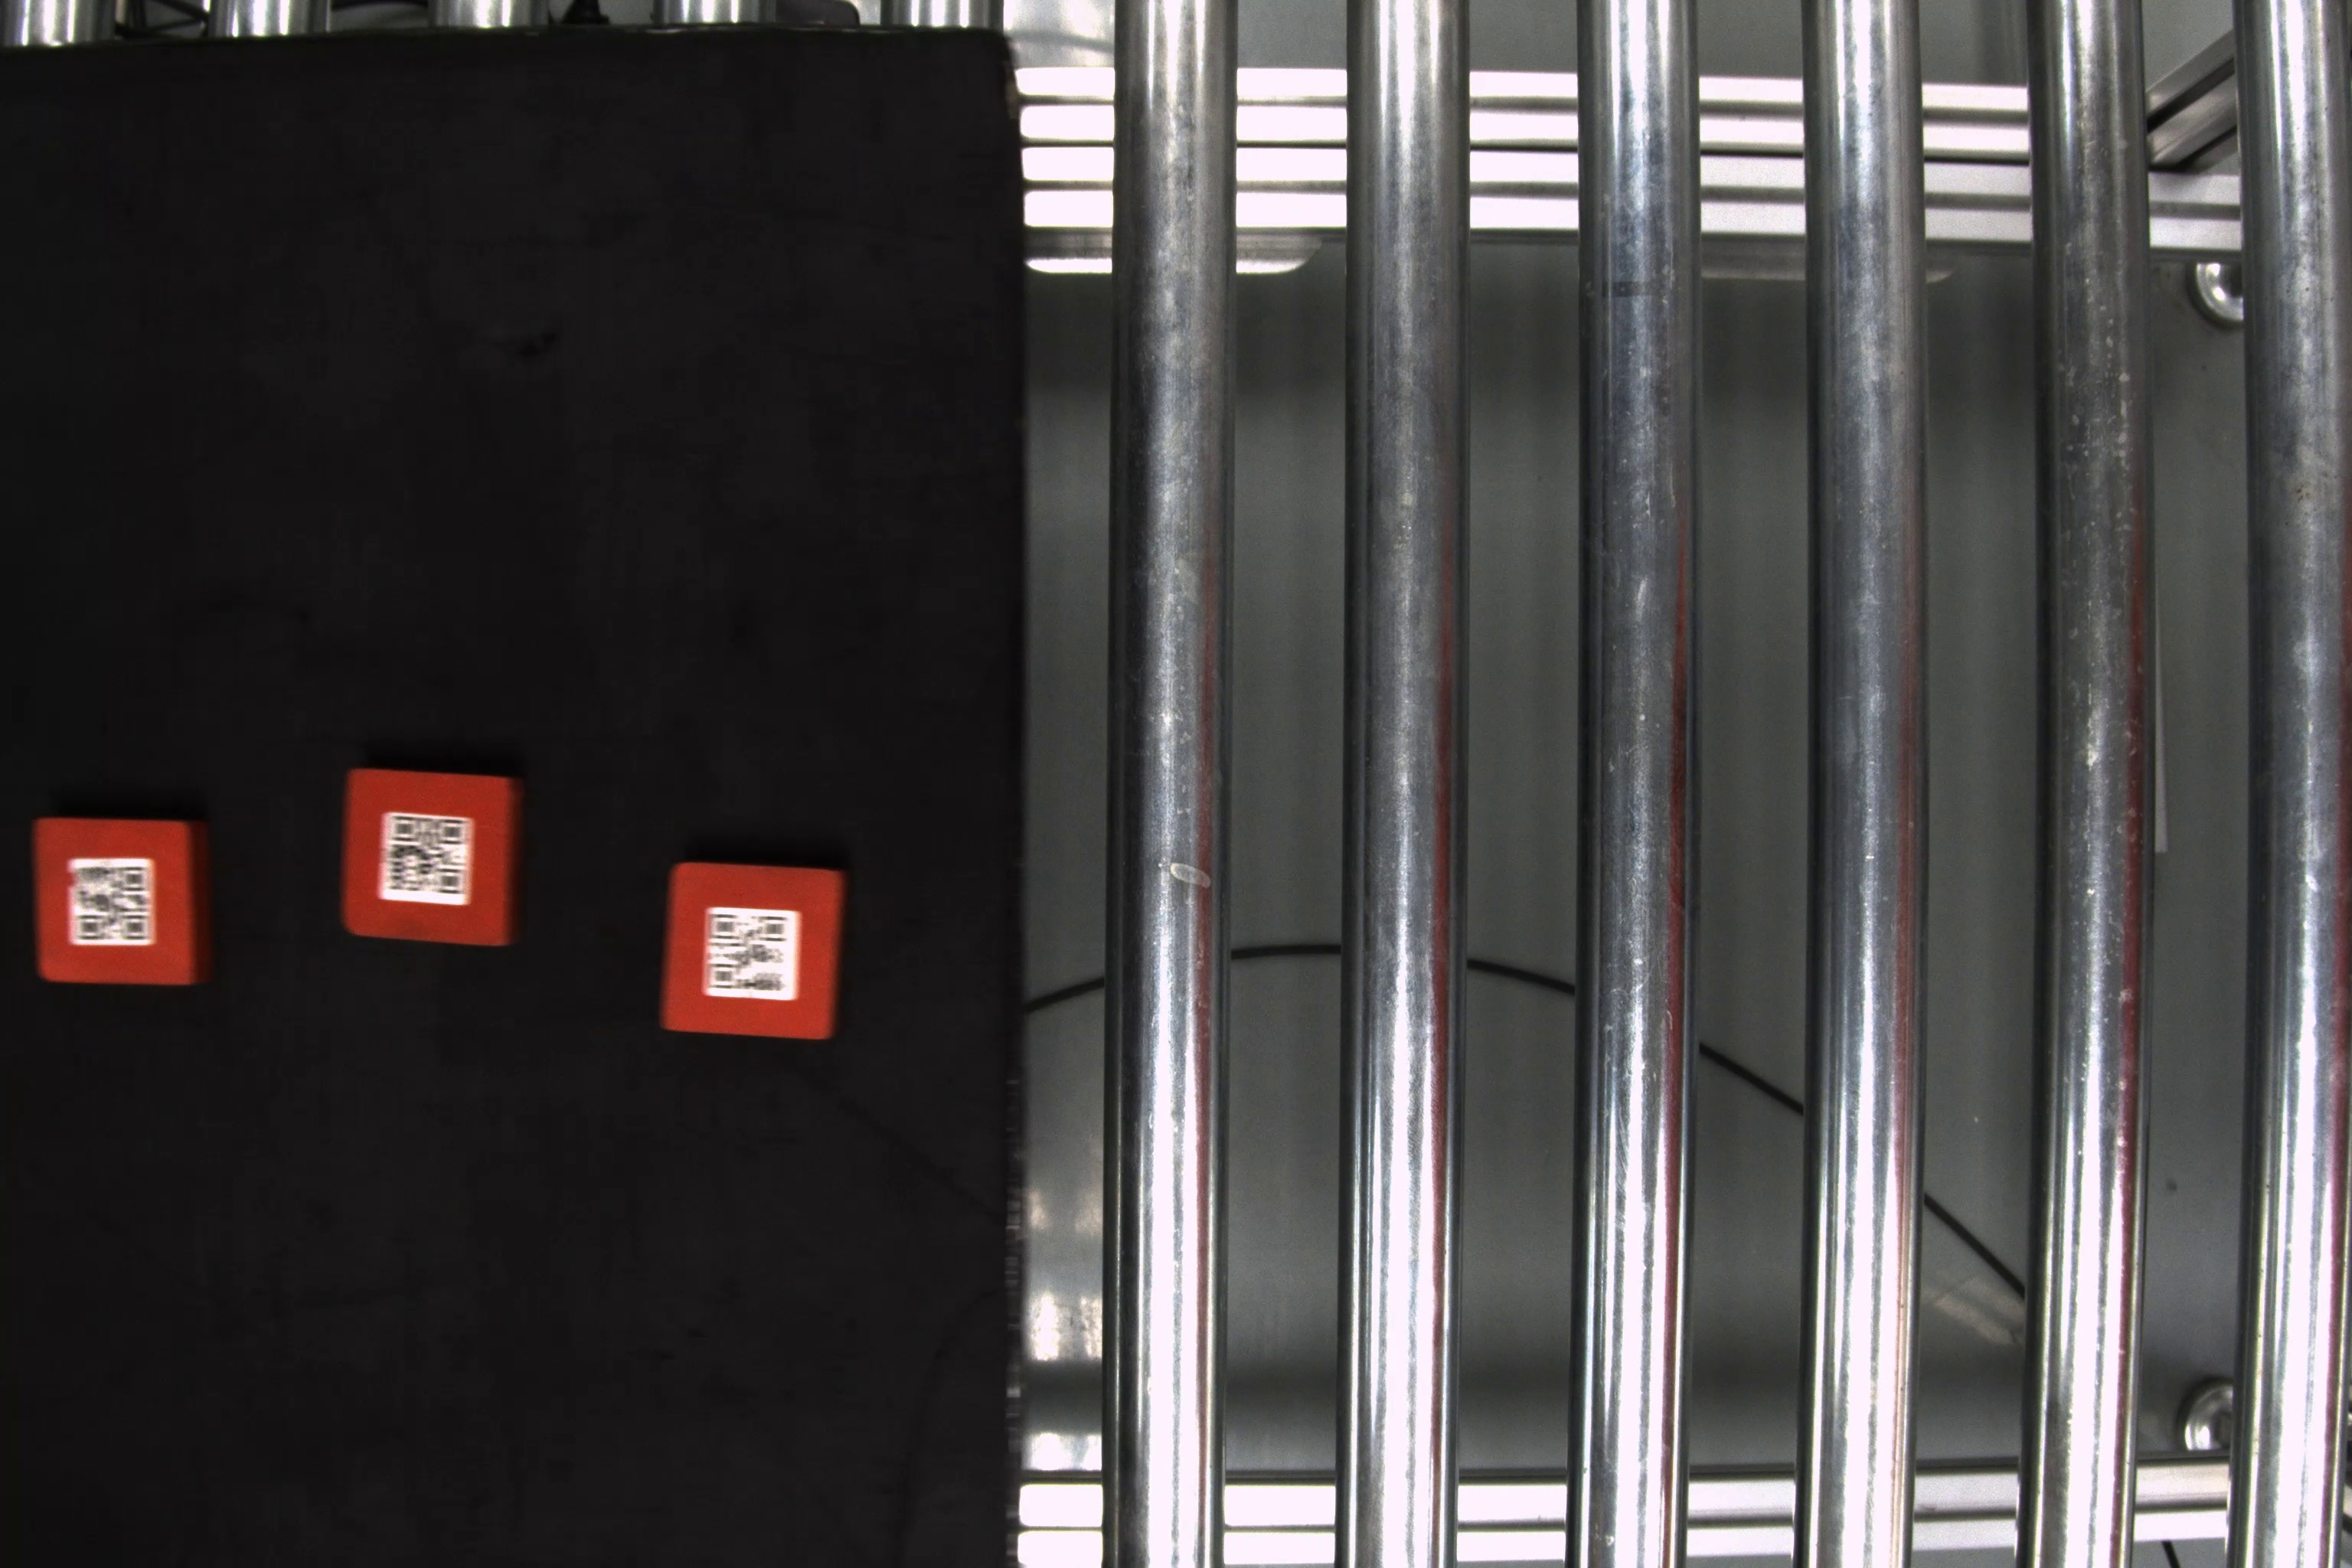wood: (338, 759, 530, 954), (30, 814, 226, 996), (665, 857, 847, 1045)
